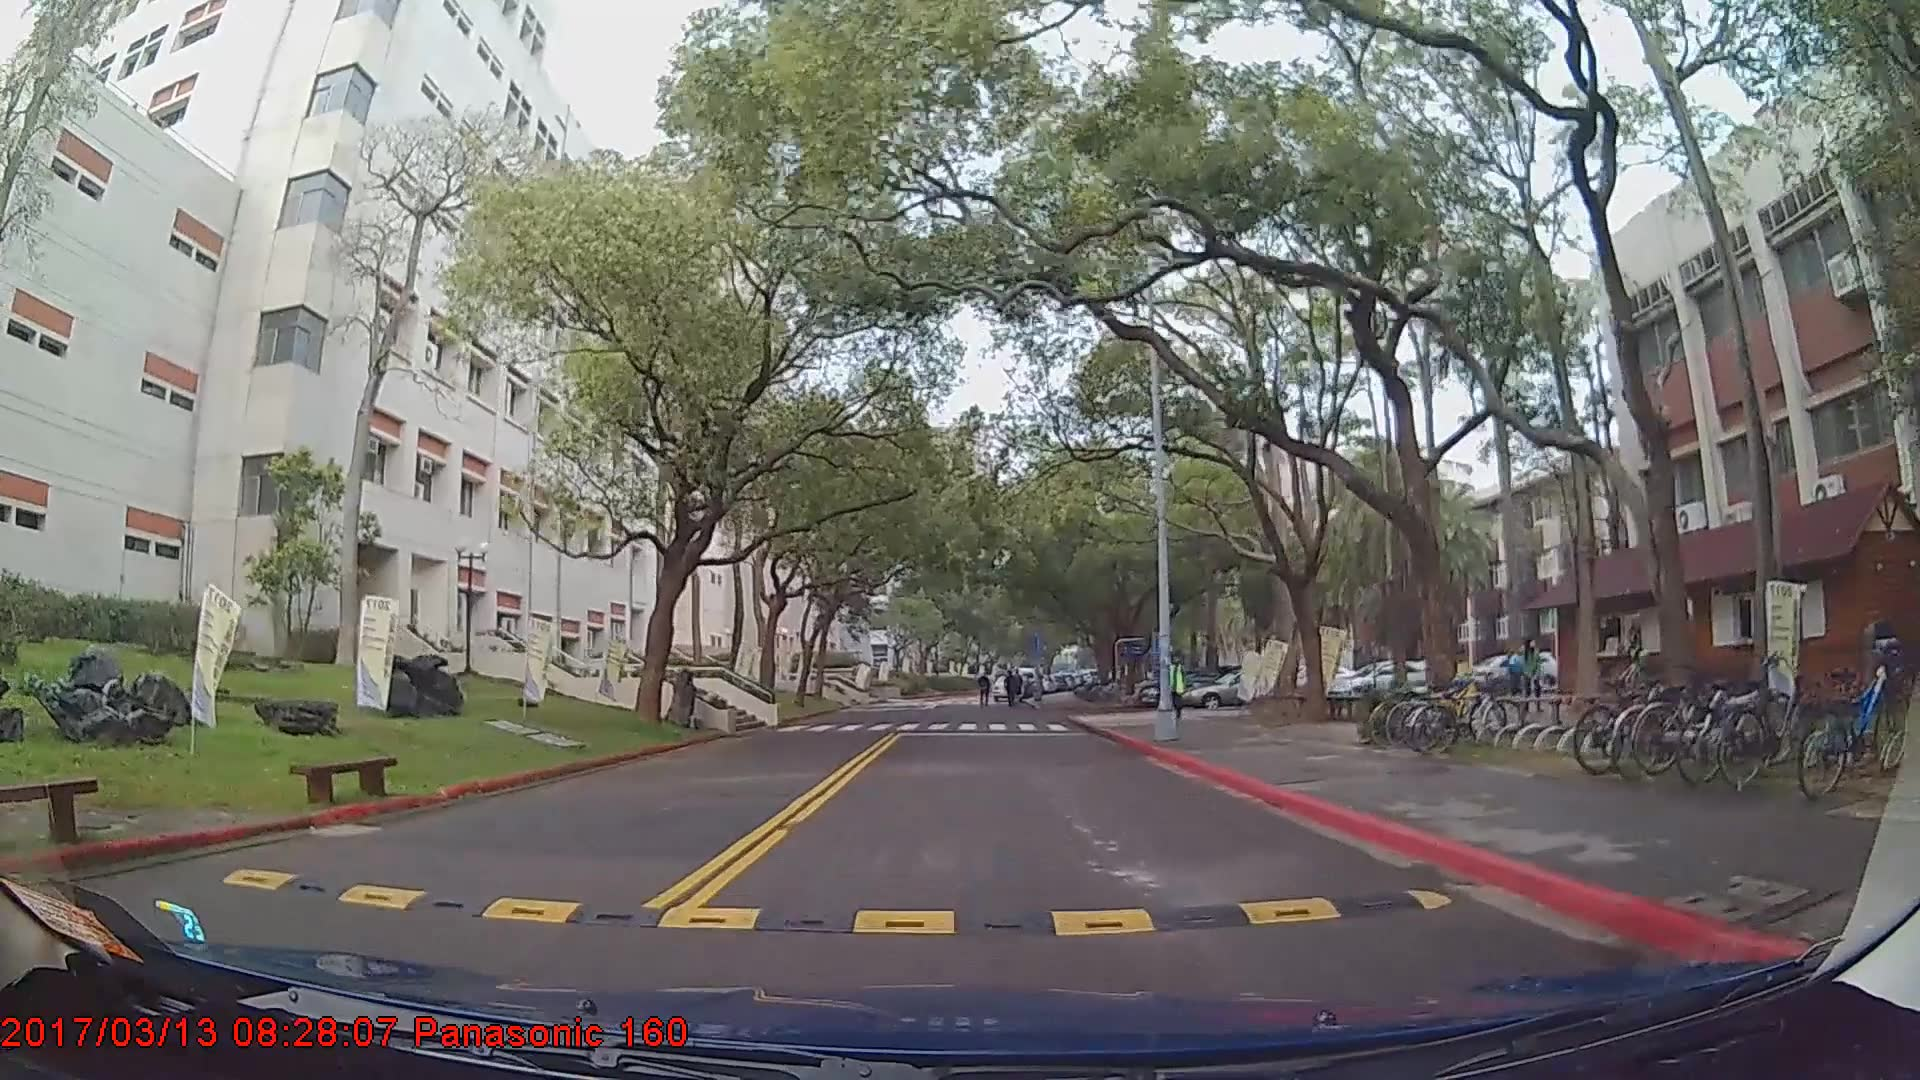vehicle: (1183, 669, 1313, 708), (1327, 659, 1435, 705)
